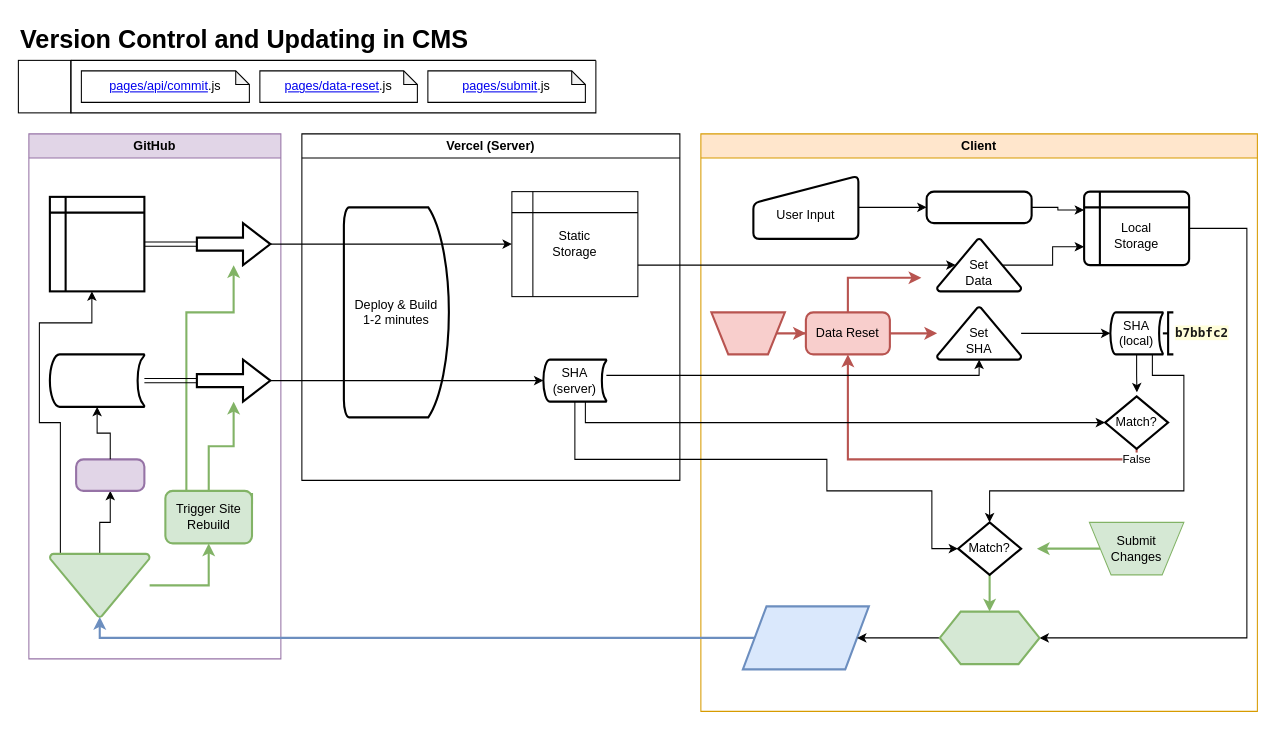
Some shapes in this 1276 by 730 pixel diagram are drawn without their labels. Each missing label, with the centre of its shape:
"CRUD System" belongs at (978,207).
"fetch /api/commit Method: POST" belongs at (805,637).
"Generate new SHA" belongs at (110,474).
"JSON Array" belongs at (96,243).
"Manual Reset" belongs at (747,333).
"Perform Final Mutations" belongs at (989,637).
"Receive Commit" belongs at (99,584).
"Related Files:" belongs at (44,86).
"SHA (most recent commit)" belongs at (96,380).
